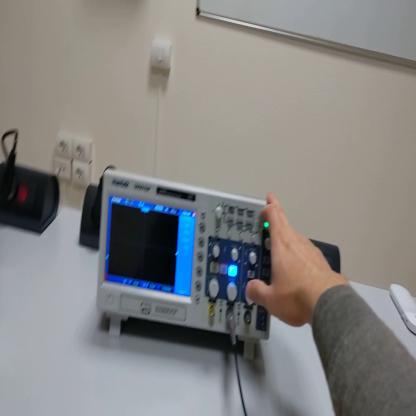hand: (246, 189, 332, 333)
oscilloscope: (93, 163, 271, 356)
socket: (2, 162, 61, 238), (79, 181, 103, 253)
